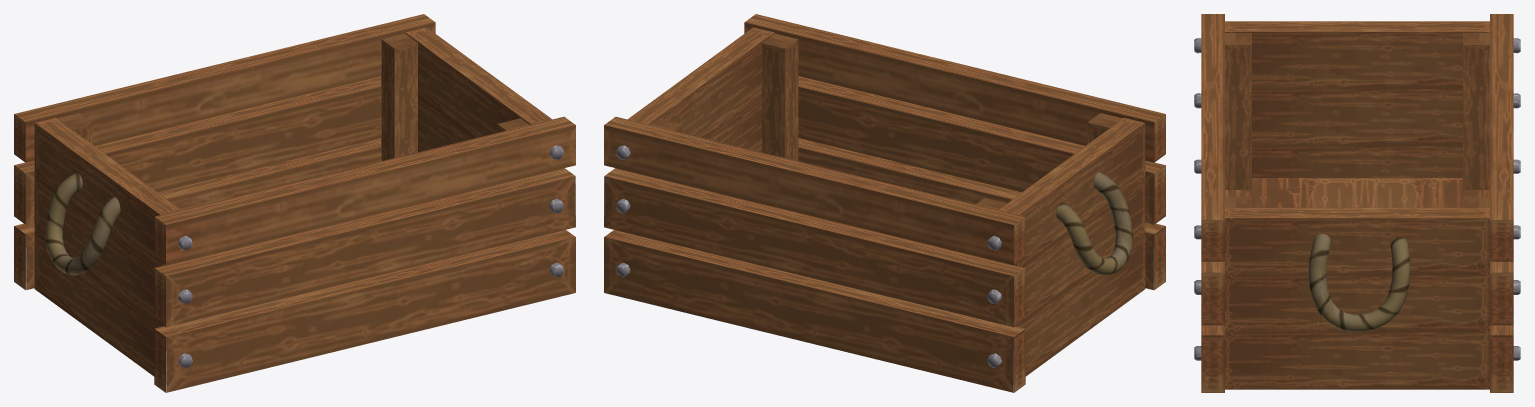
File: FarmCrate_Empty.gltf
3 views of the same model, side by side, from view 1: azimuth 30°, elevation 25°; view 2: azimuth 150°, elevation 25°; view 3: azimuth 270°, elevation 25° (orthographic). The views are drawn at different scales.
Parts seen in each view (by area): view 1: FarmCrate_Empty; view 2: FarmCrate_Empty; view 3: FarmCrate_Empty.
Part boxes in pixels (x1,y1,x2,y2): FarmCrate_Empty: (14, 14, 575, 392); FarmCrate_Empty: (604, 14, 1165, 392); FarmCrate_Empty: (1194, 14, 1520, 392).
Size of the model in its own units: 0.7138 by 0.2438 by 0.4141.
2 materials, 2 textured.
